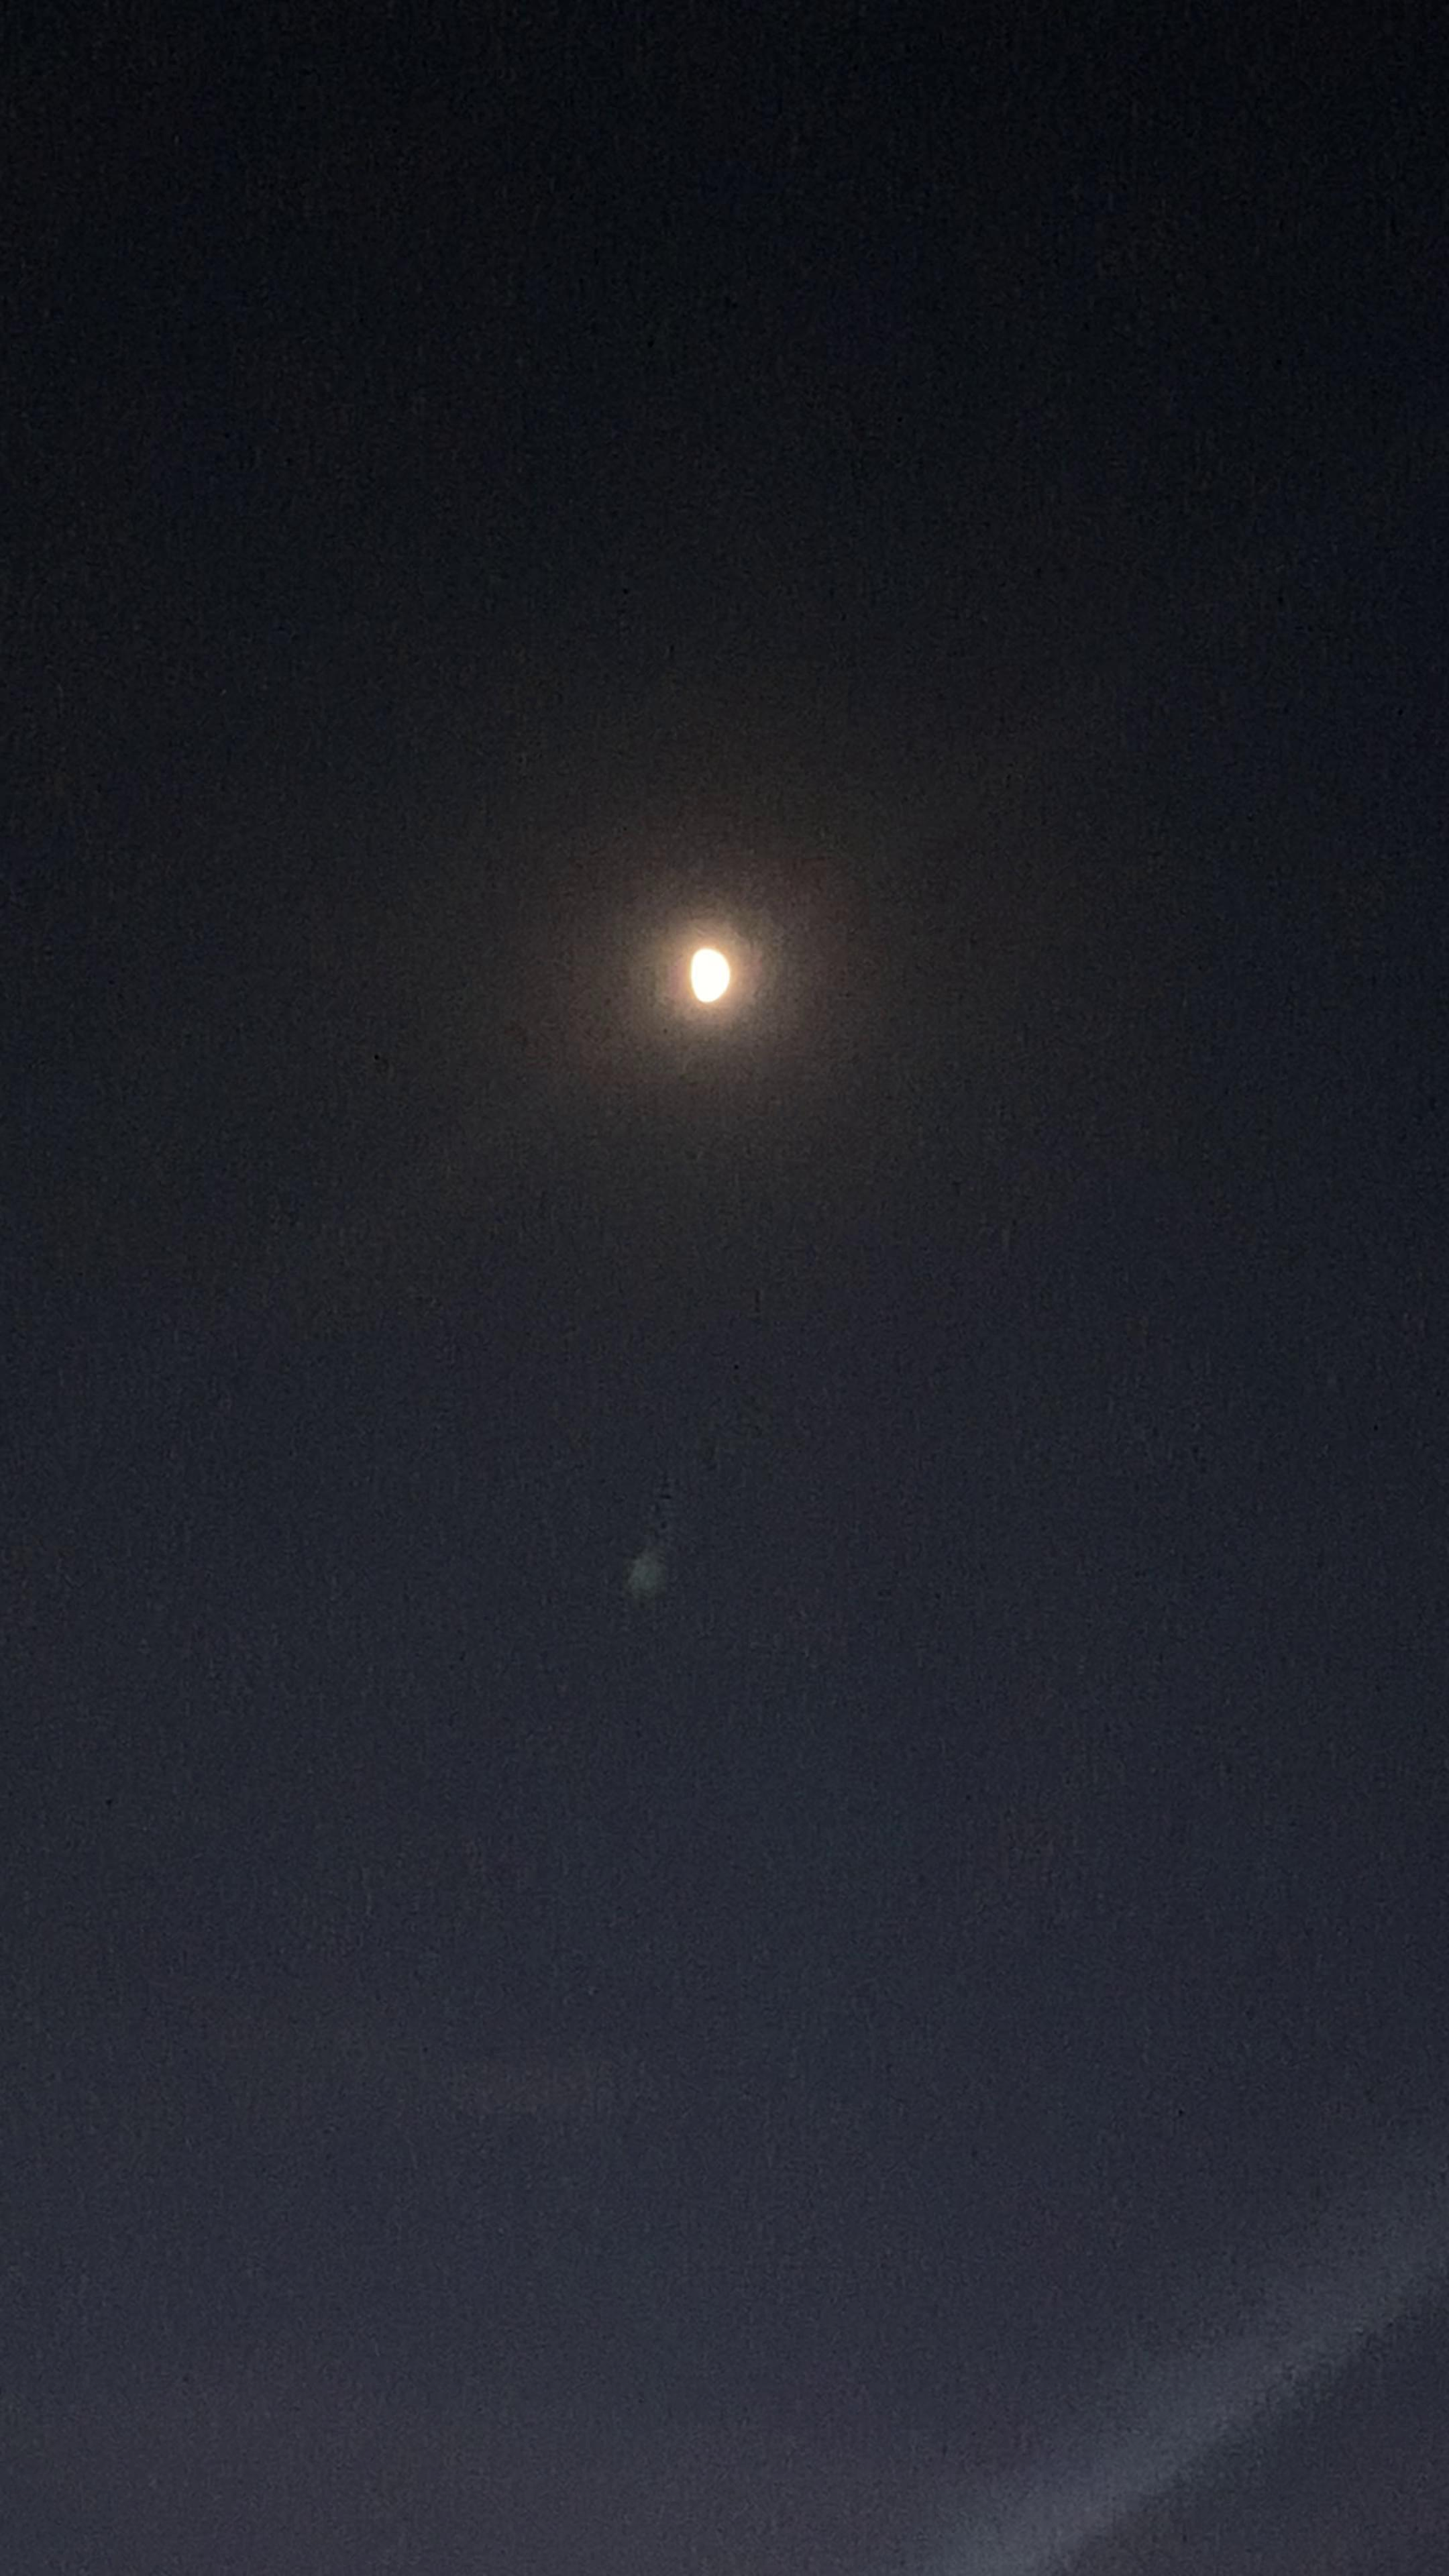moon: (663, 911, 764, 1030)
